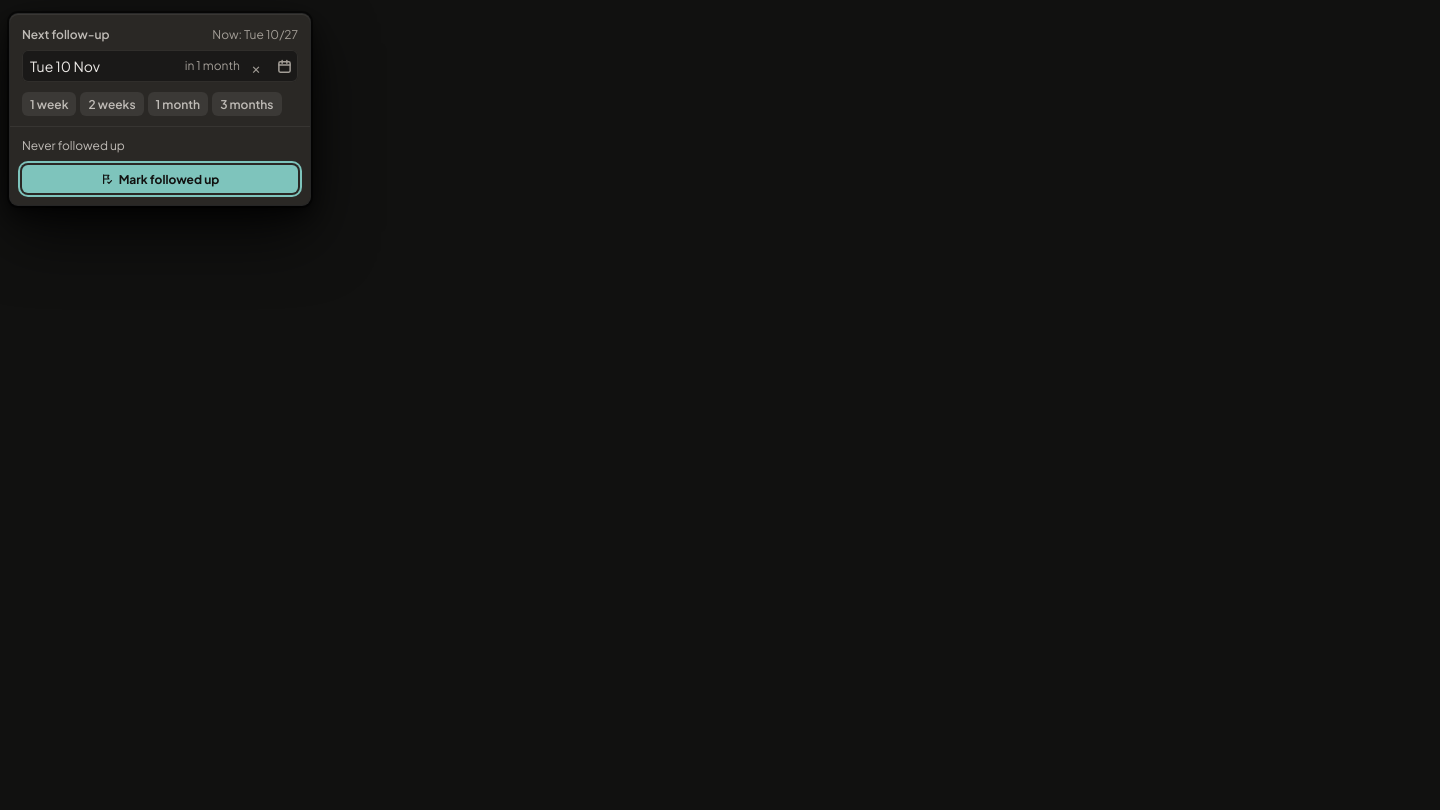
<FollowupPopover> Next field and Mark followed up › its tooltip says what it does with a date in the field
The width and height of the screenshot is (1440, 810).
Hover over the button "Mark followed up" at (160, 179), box [22,165,298,193]
Wait 400 ms
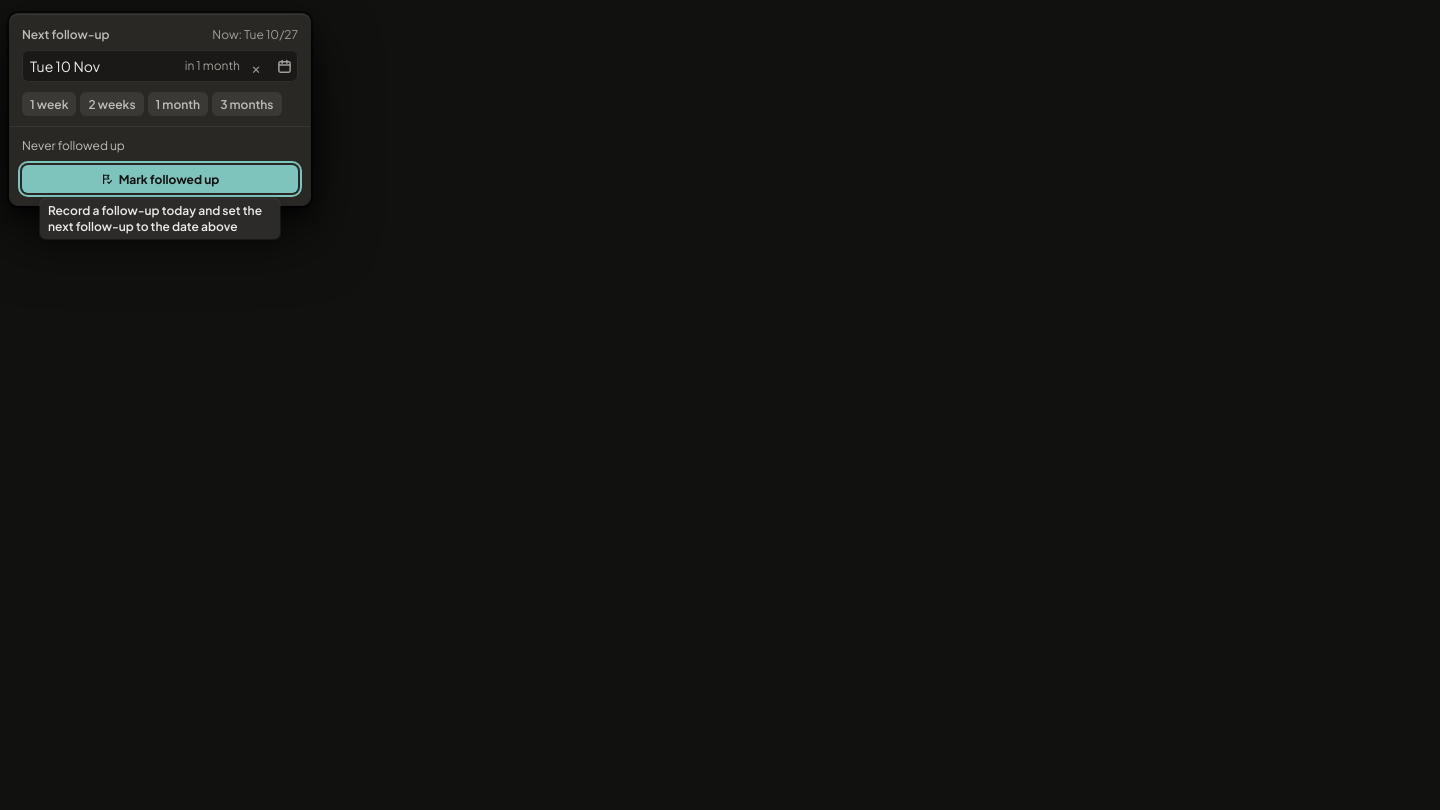
Result: the tooltip reads "Record a follow-up today and set the next follow-up to the date above" at [48,203,262,234]
